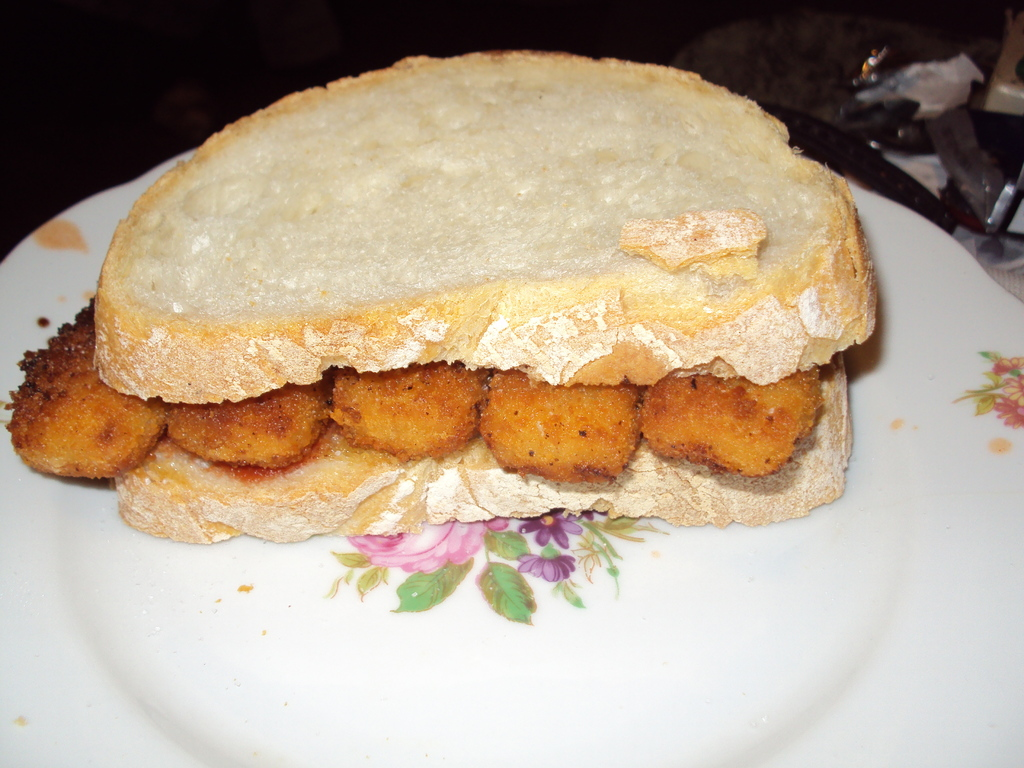sandwich: (3, 45, 879, 544)
